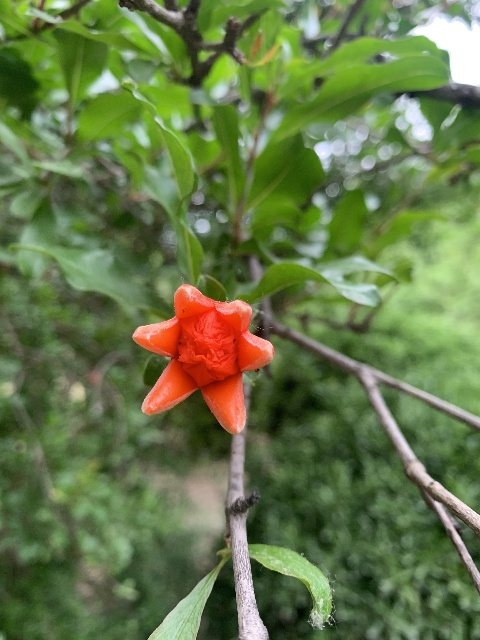flower: (133, 284, 274, 433)
